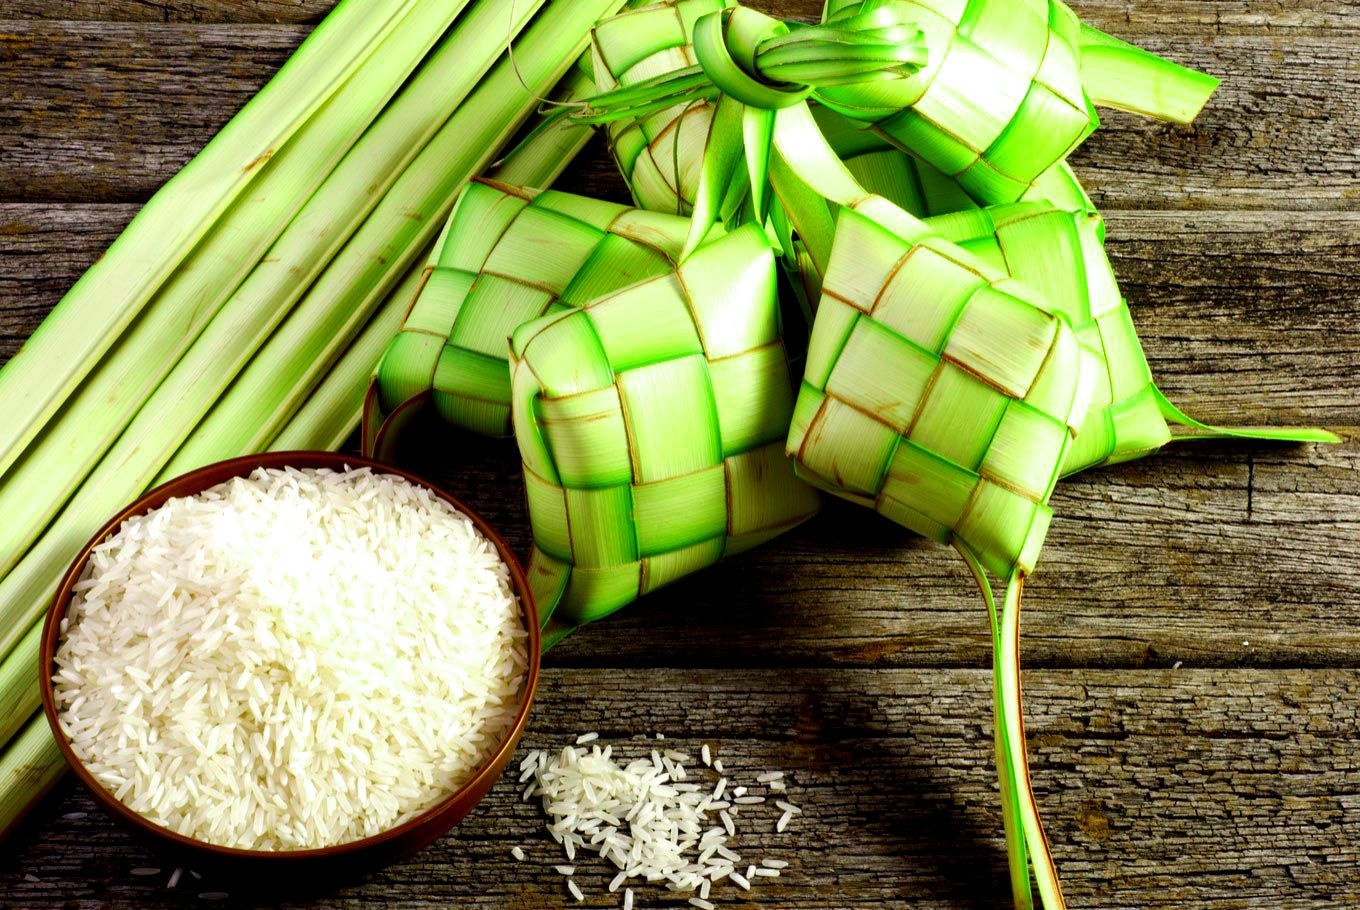ketupat: (506, 220, 844, 628), (780, 194, 1100, 571)
